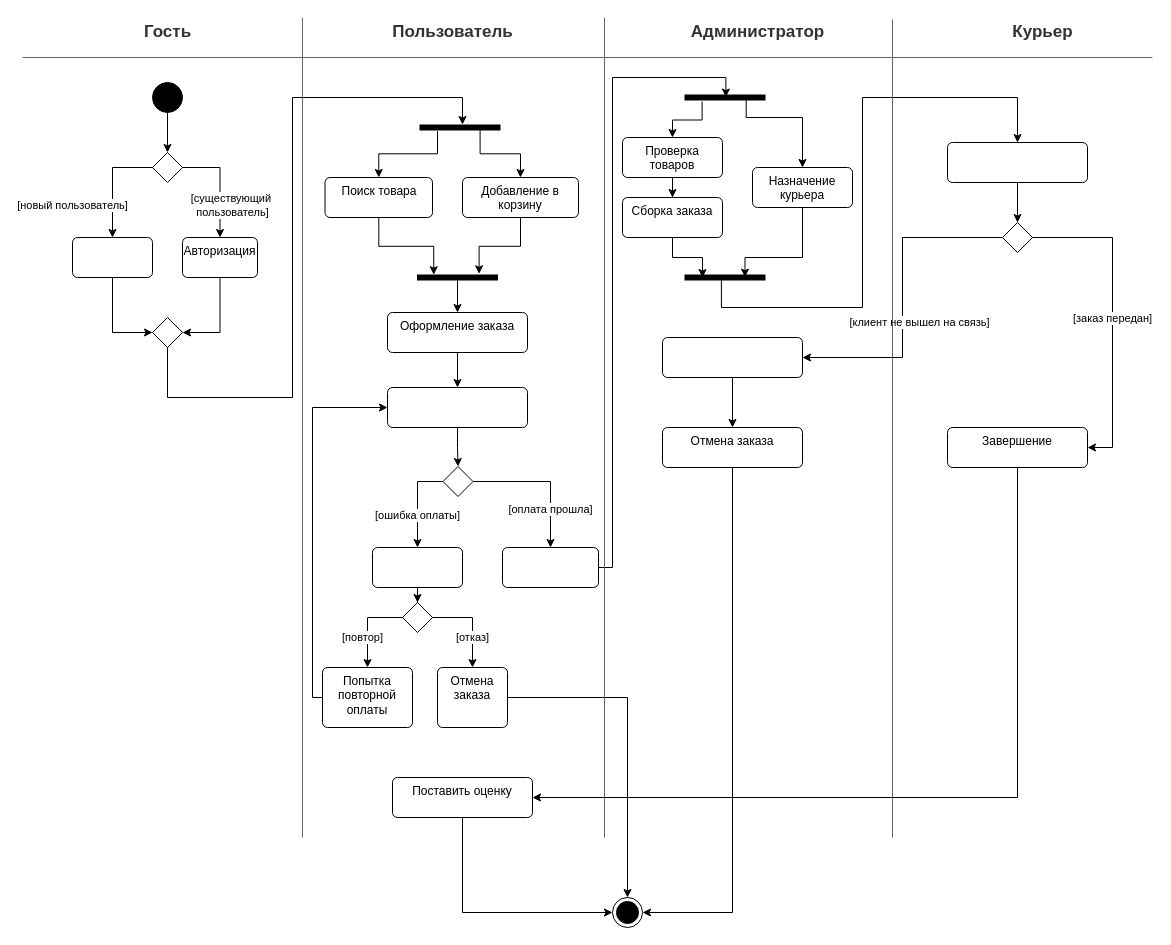
Image size: 1171x945. Some labels were removed from this diagram. The shapes that lost their labels are listed below. From the top down, each one's box as (x1, y1, x2, y2) in pixels, then its label:
(946, 142, 1088, 182): Доставка заказа
(72, 236, 152, 278): Регистрация
(662, 336, 802, 378): Изменение статуса заказа
(386, 386, 528, 428): Оплата
(372, 546, 462, 588): Уведомление об ошибке
(502, 546, 598, 588): Отслеживание статуса
